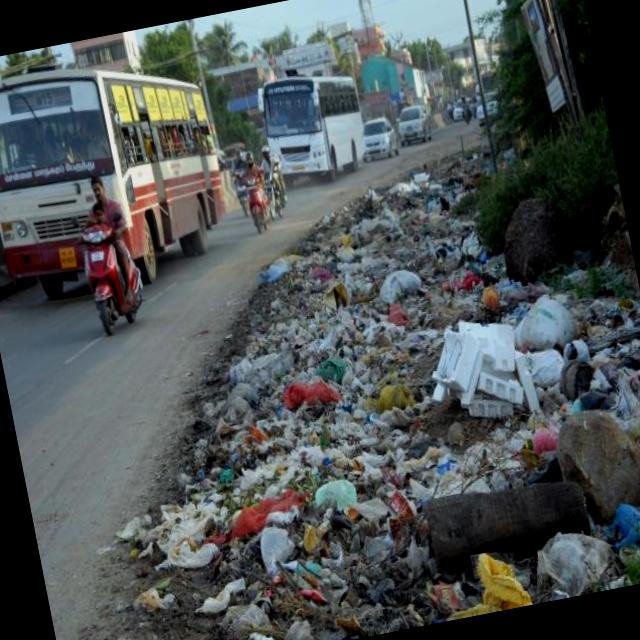garbage: (149, 141, 640, 640)
